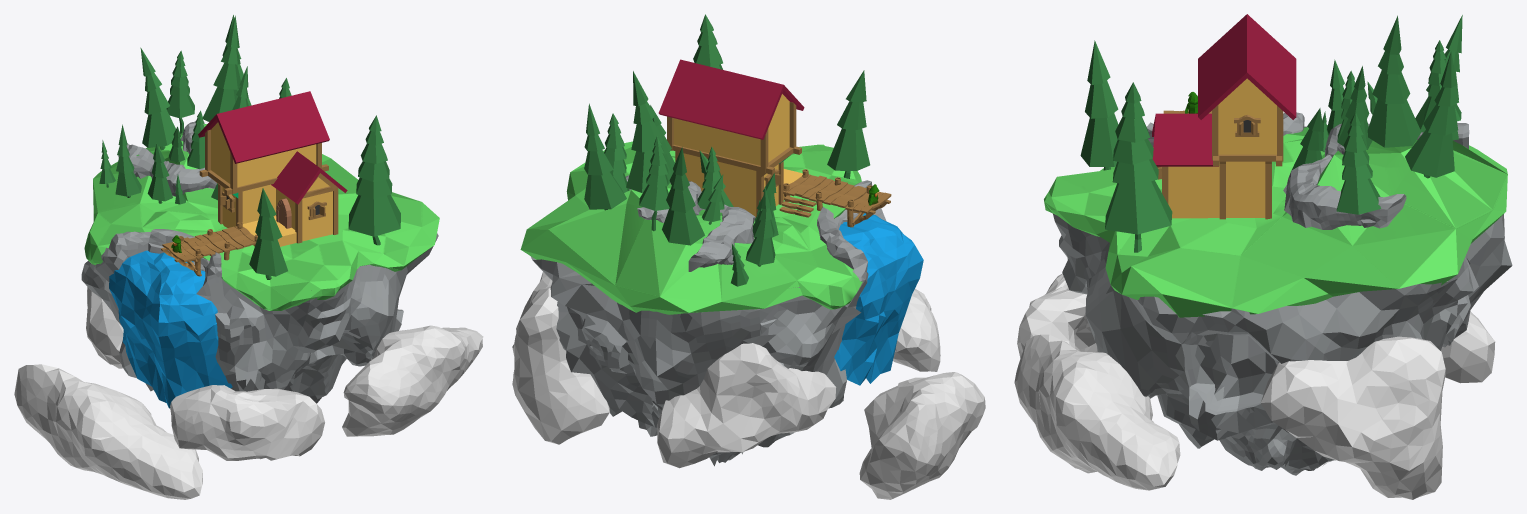
File: low_poly_floating_island.glb
3 views of the same model, side by side, from view 1: azimuth 30°, elevation 25°; view 2: azimuth 150°, elevation 25°; view 3: azimuth 270°, elevation 25° (orthographic). The views are drawn at different scales.
Visible parts, largest first — view 1: Circle, Circle.001, Circle.010, Plane, Circle.012, Circle.009, Cube.013, Pine_Tree_01.001, Cube.005, Pine_Tree_03.001, Circle.008, Pine_Tree_02.003 (+12 smaller); view 2: Circle, Circle.001, Circle.008, Circle.010, Circle.011, Plane, Cube.013, Cube.005, Circle.009, Pine_Tree_03.001, Circle.002, Pine_Tree_02.005 (+12 smaller); view 3: Circle.001, Circle, Circle.011, Circle.012, Cube.013, Pine_Tree_01.001, Circle.003, Pine_Tree_02.004, Circle.009, Pine_Tree_02.005, Cube.005, Cube.012 (+12 smaller).
Part boxes in pixels (x1,y1,x2,y2): Circle: (81, 229, 438, 403); Circle.001: (84, 124, 439, 310); Circle.010: (14, 364, 202, 499); Plane: (109, 250, 232, 408); Circle.012: (342, 325, 483, 436); Circle.009: (170, 385, 324, 460); Cube.013: (198, 91, 329, 163); Pine_Tree_01.001: (348, 115, 400, 245); Cube.005: (211, 122, 316, 187); Pine_Tree_03.001: (249, 188, 287, 279); Circle.008: (86, 287, 123, 368); Pine_Tree_02.003: (140, 47, 175, 150); Circle: (530, 180, 886, 466); Circle.001: (520, 141, 862, 314); Circle.008: (657, 343, 836, 468); Circle.010: (859, 372, 985, 499); Circle.011: (512, 272, 609, 444); Plane: (834, 213, 923, 385); Cube.013: (658, 59, 804, 139); Cube.005: (673, 94, 789, 165); Circle.009: (893, 289, 940, 371); Pine_Tree_03.001: (827, 70, 870, 178); Circle.002: (688, 195, 755, 271); Pine_Tree_02.005: (584, 103, 626, 210); Circle.001: (1044, 125, 1507, 317); Circle: (1052, 112, 1512, 475); Circle.011: (1261, 336, 1445, 499); Circle.012: (1014, 334, 1180, 490); Cube.013: (1198, 14, 1296, 119); Pine_Tree_01.001: (1105, 82, 1172, 252); Circle.003: (1283, 155, 1406, 229); Pine_Tree_02.004: (1367, 15, 1421, 147); Circle.009: (1017, 273, 1095, 358); Pine_Tree_02.005: (1405, 51, 1458, 178); Cube.005: (1218, 78, 1276, 154); Cube.012: (1152, 113, 1218, 166).
Size of the model in its own units: 13.18 by 11.96 by 11.3.
12 materials, 2 textured.
